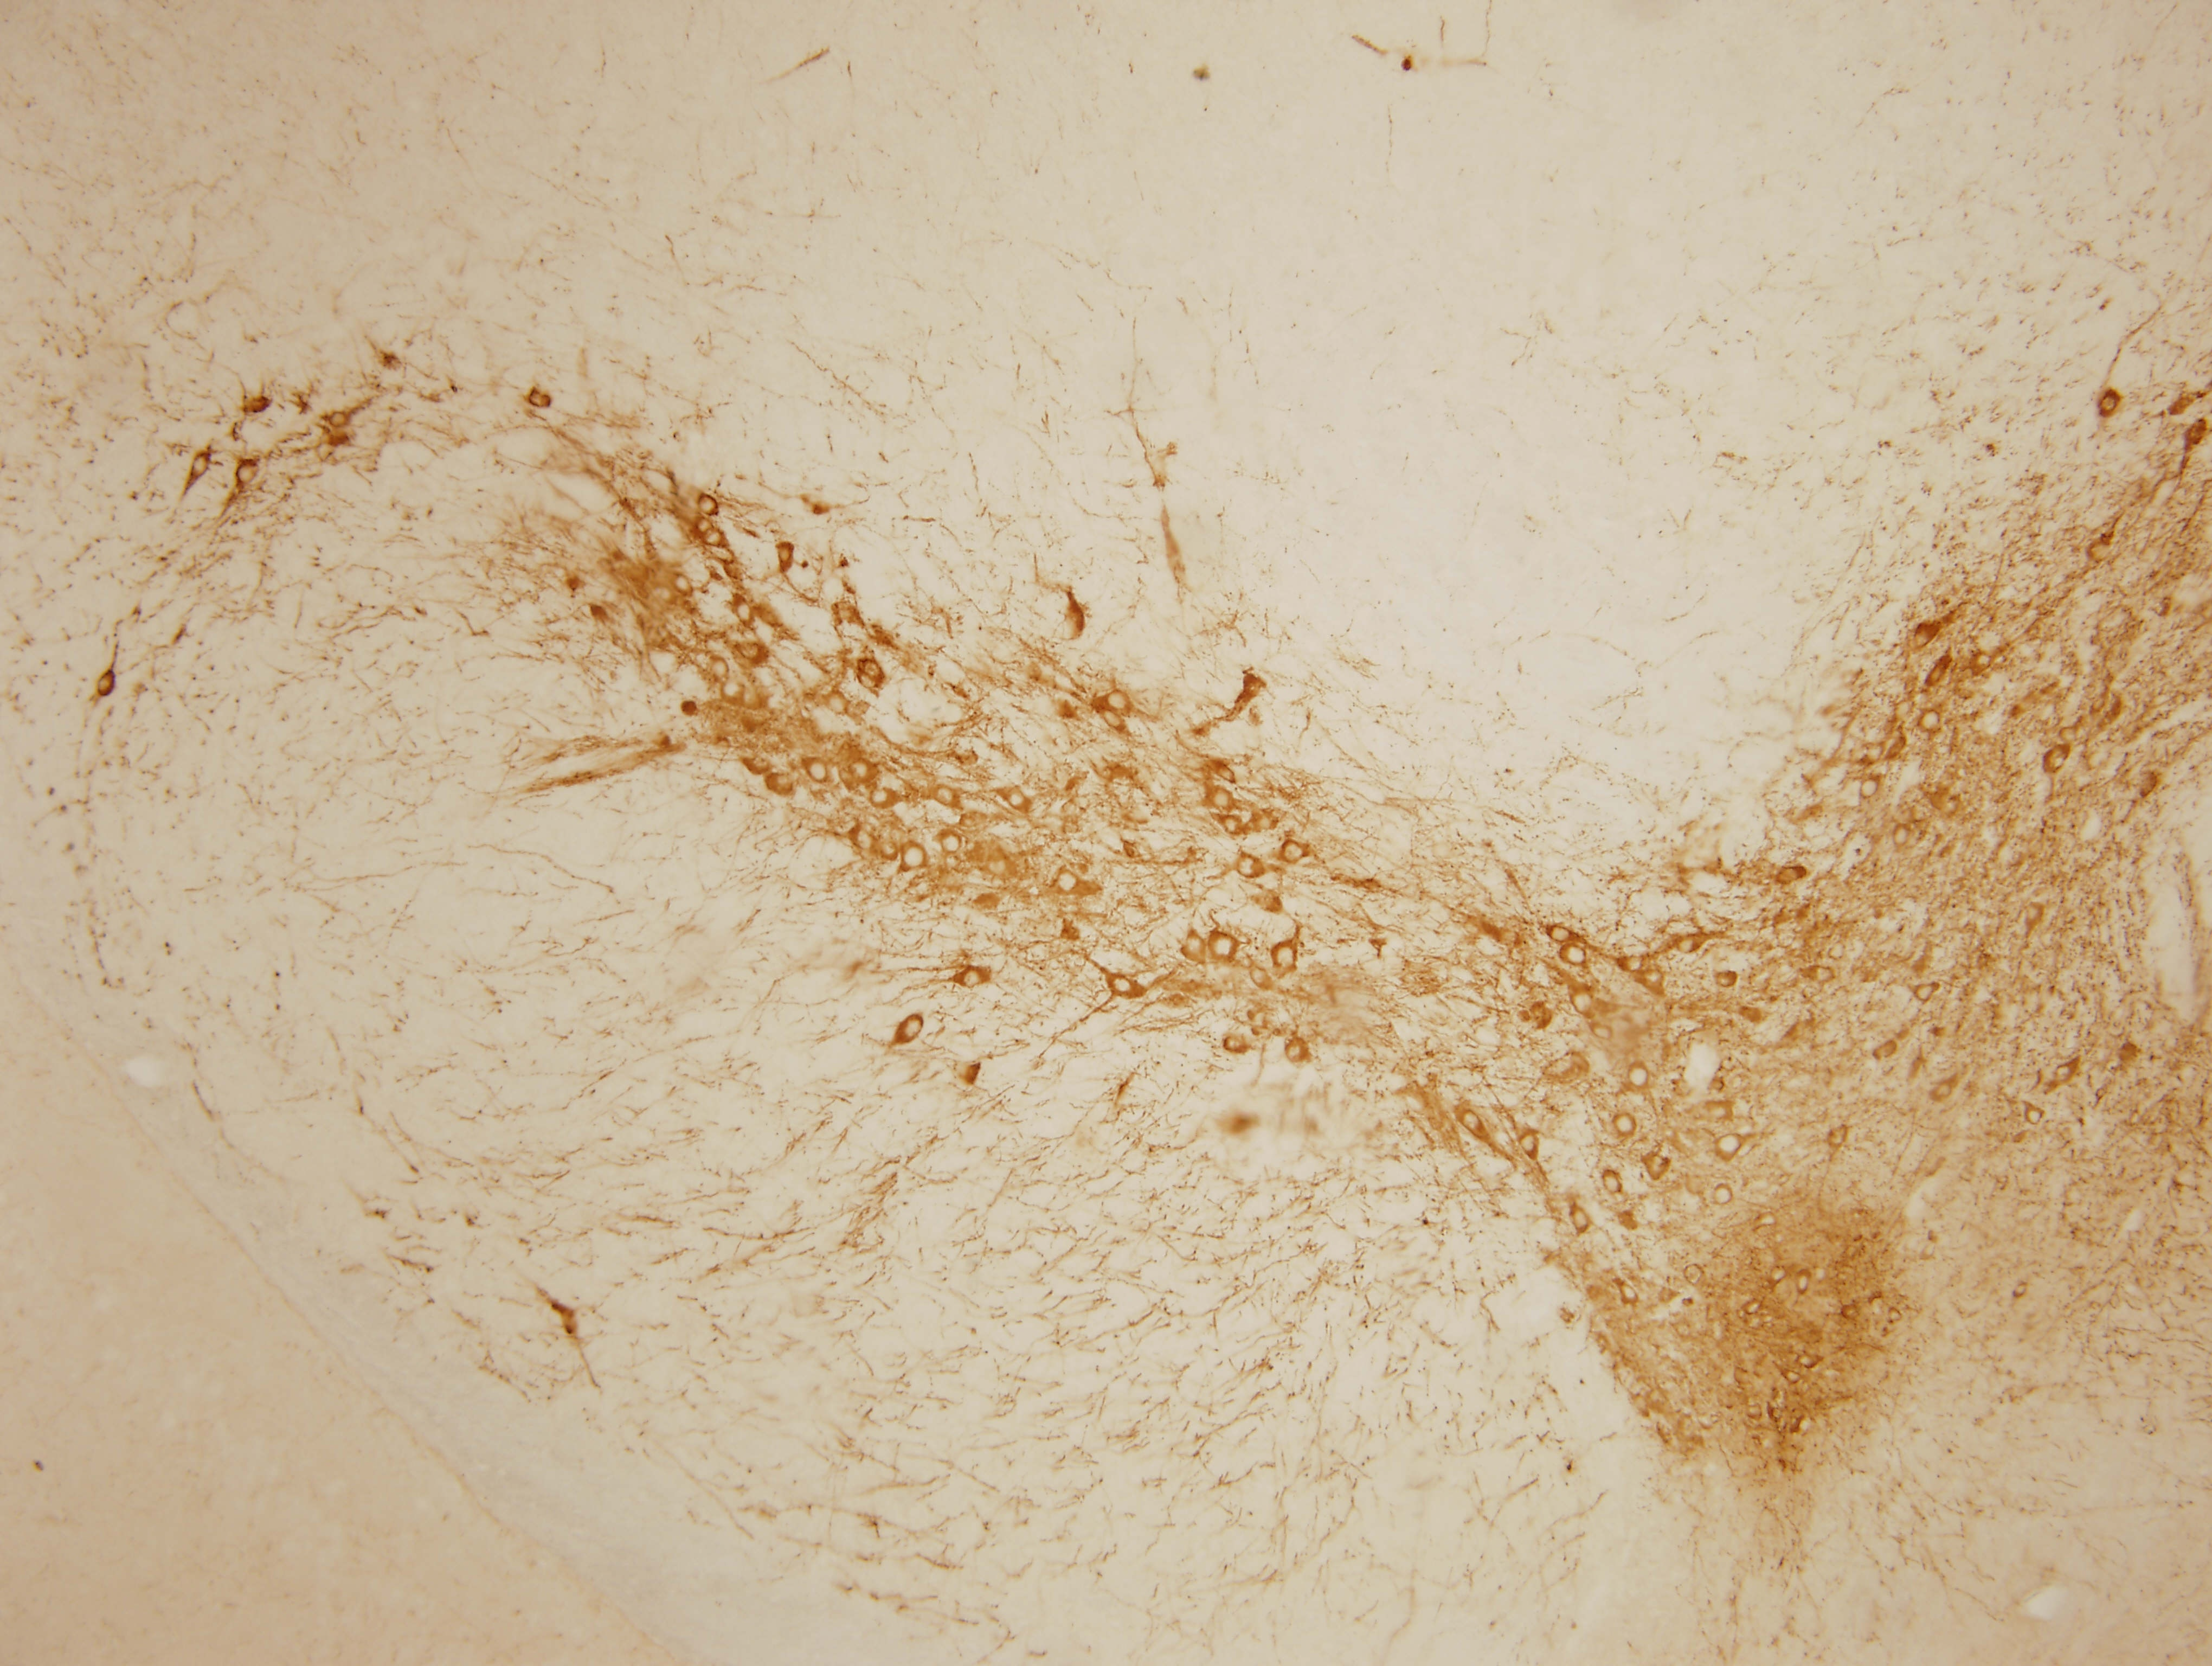neuron: (855, 655, 888, 688), (895, 1011, 929, 1045), (89, 670, 122, 703), (1207, 929, 1240, 963), (901, 842, 932, 875), (1269, 941, 1303, 973), (1282, 1034, 1313, 1067), (1560, 938, 1591, 971), (1563, 1202, 1595, 1236), (1565, 985, 1598, 1017), (1623, 1061, 1654, 1094), (2041, 746, 2072, 779), (1714, 1130, 1745, 1162), (670, 571, 696, 597), (694, 492, 720, 518), (720, 679, 747, 705), (731, 598, 757, 625), (773, 542, 799, 569), (806, 760, 832, 786), (824, 691, 850, 718), (848, 826, 874, 852), (850, 758, 876, 784), (867, 786, 894, 812), (932, 784, 958, 810), (937, 831, 963, 858), (958, 966, 984, 992), (1054, 868, 1081, 894), (1098, 705, 1124, 731), (1105, 688, 1131, 714), (1109, 973, 1135, 999), (1208, 786, 1235, 812), (1217, 814, 1243, 840), (1280, 838, 1306, 865), (1458, 1109, 1485, 1136), (1516, 1130, 1542, 1157), (1546, 921, 1572, 947), (1589, 1020, 1616, 1046), (1600, 1169, 1626, 1195), (1612, 1111, 1638, 1138), (1617, 1281, 1644, 1307), (1644, 1153, 1670, 1179), (1673, 933, 1700, 959), (1707, 1099, 1733, 1125), (1715, 968, 1742, 994), (1791, 1270, 1817, 1297), (1810, 961, 1836, 987), (1824, 938, 1850, 964), (1826, 1122, 1852, 1148), (1857, 777, 1883, 803), (187, 453, 213, 480), (1887, 824, 1913, 851), (1911, 980, 1937, 1006), (1916, 707, 1943, 733), (1971, 649, 1997, 676), (2097, 392, 2123, 418), (233, 460, 259, 487), (325, 406, 351, 432), (526, 387, 553, 413), (708, 656, 733, 683), (1221, 1031, 1245, 1057), (1236, 854, 1261, 880), (1621, 952, 1647, 976), (1640, 966, 1666, 991), (1682, 1262, 1708, 1286), (1710, 1183, 1736, 1208), (1766, 1262, 1792, 1286), (703, 529, 724, 548), (1743, 1297, 1764, 1316), (1841, 1300, 1861, 1321), (694, 516, 713, 535), (1007, 791, 1026, 810), (1784, 1367, 1803, 1386), (1796, 1349, 1815, 1369), (1887, 1306, 1906, 1325), (2011, 1281, 2030, 1300), (2027, 1106, 2046, 1125), (2053, 1064, 2072, 1083)
